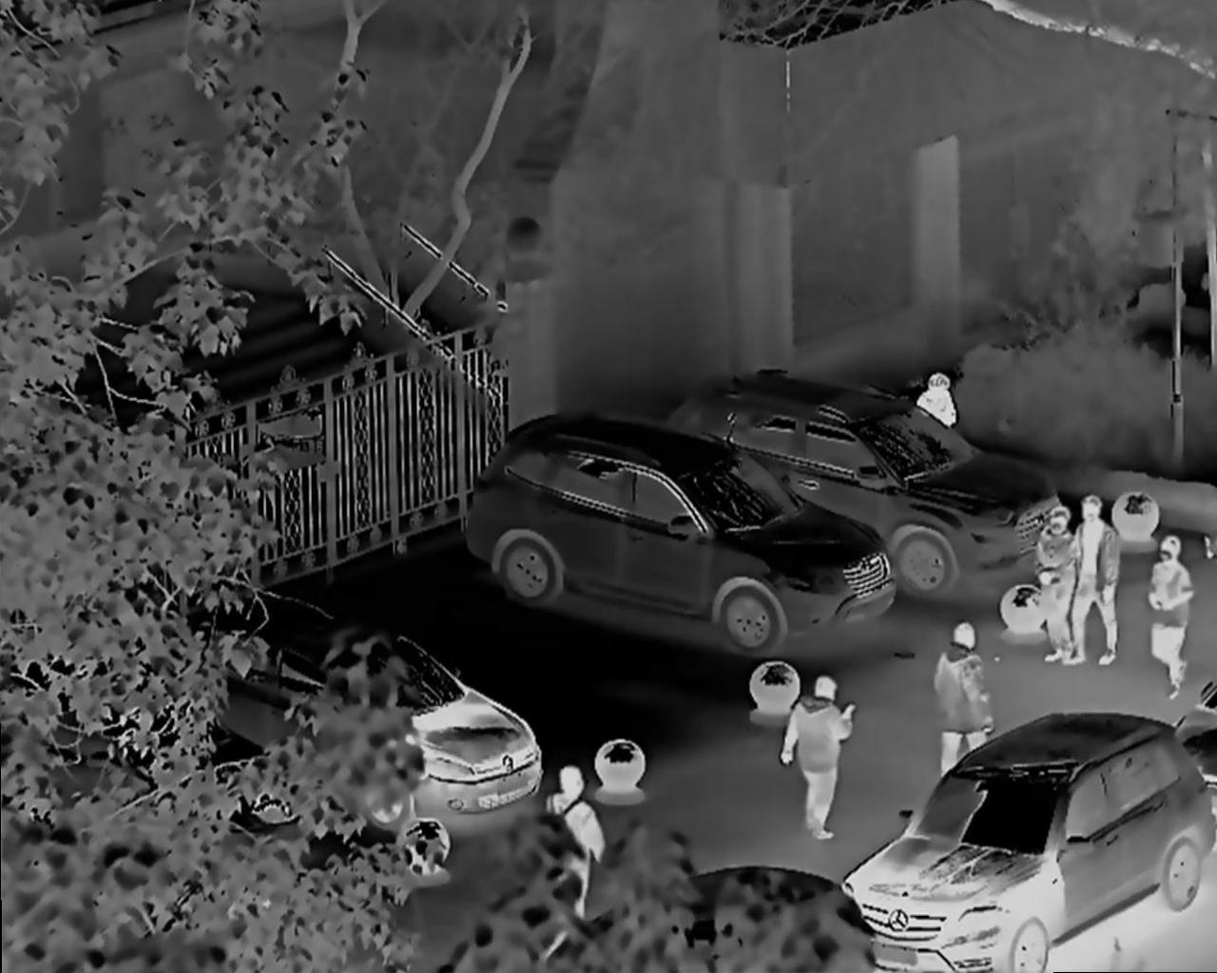person: (779, 672, 859, 865), (929, 612, 1003, 796), (538, 754, 609, 943), (1145, 521, 1200, 688), (1073, 492, 1116, 676), (921, 374, 972, 520), (1035, 504, 1072, 676)
